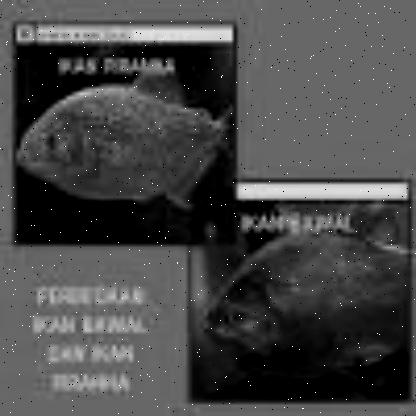ikan-pacu: (199, 233, 404, 382), (17, 83, 233, 201)
